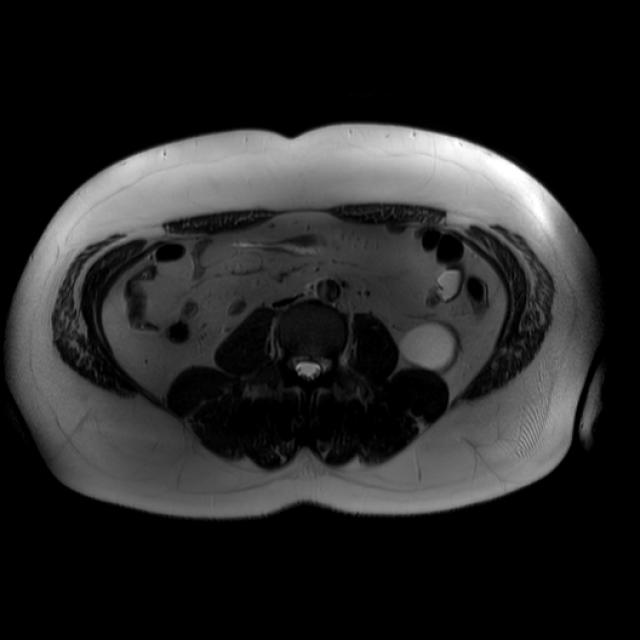sol: (399, 319, 458, 371)
